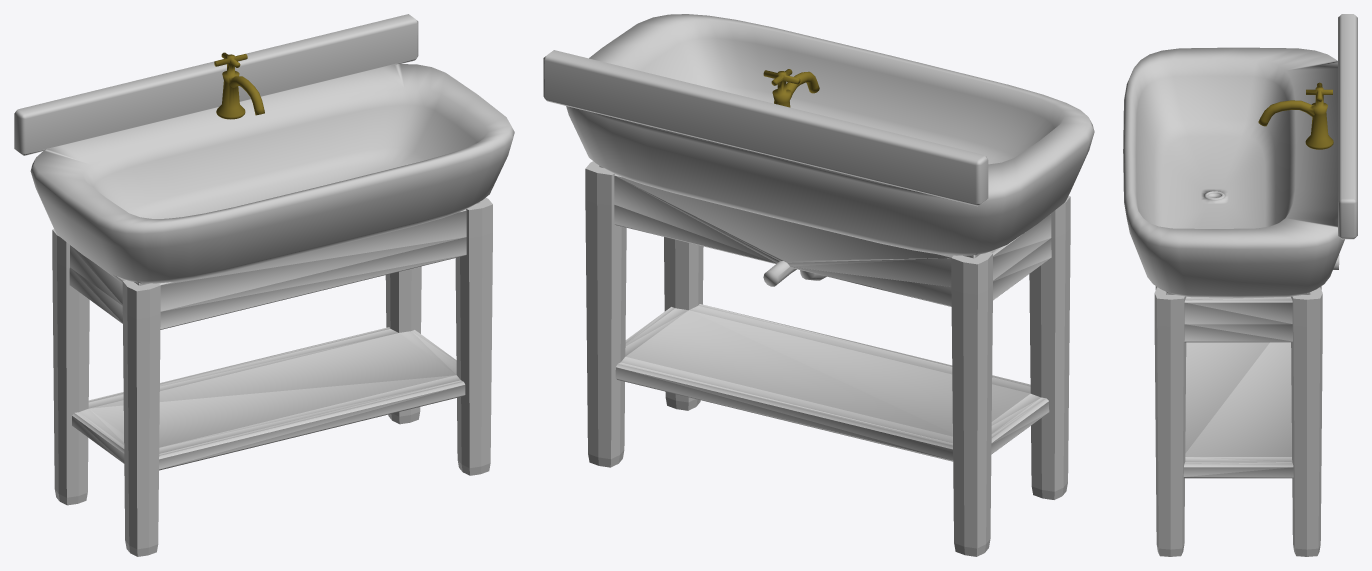
The model's file is K02_Farmhouse_Sink.fbx.
3 views of the same model, side by side, from view 1: azimuth 30°, elevation 25°; view 2: azimuth 150°, elevation 25°; view 3: azimuth 270°, elevation 25° (orthographic). The views are drawn at different scales.
Visible parts, largest first — view 1: K02_Farmhouse_Sink; view 2: K02_Farmhouse_Sink; view 3: K02_Farmhouse_Sink.
Part boxes in pixels (box(x1,y1,x2,y2)): K02_Farmhouse_Sink: box(14, 14, 514, 556); K02_Farmhouse_Sink: box(543, 14, 1094, 556); K02_Farmhouse_Sink: box(1123, 14, 1357, 556).
Bounding box in the file's own units: 1.17 × 1.07 × 0.589.
